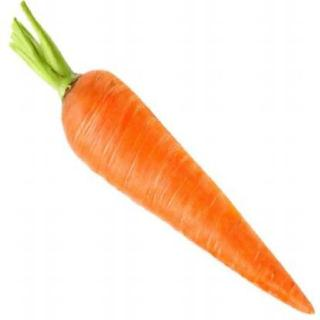carrot: (58, 63, 314, 315)
